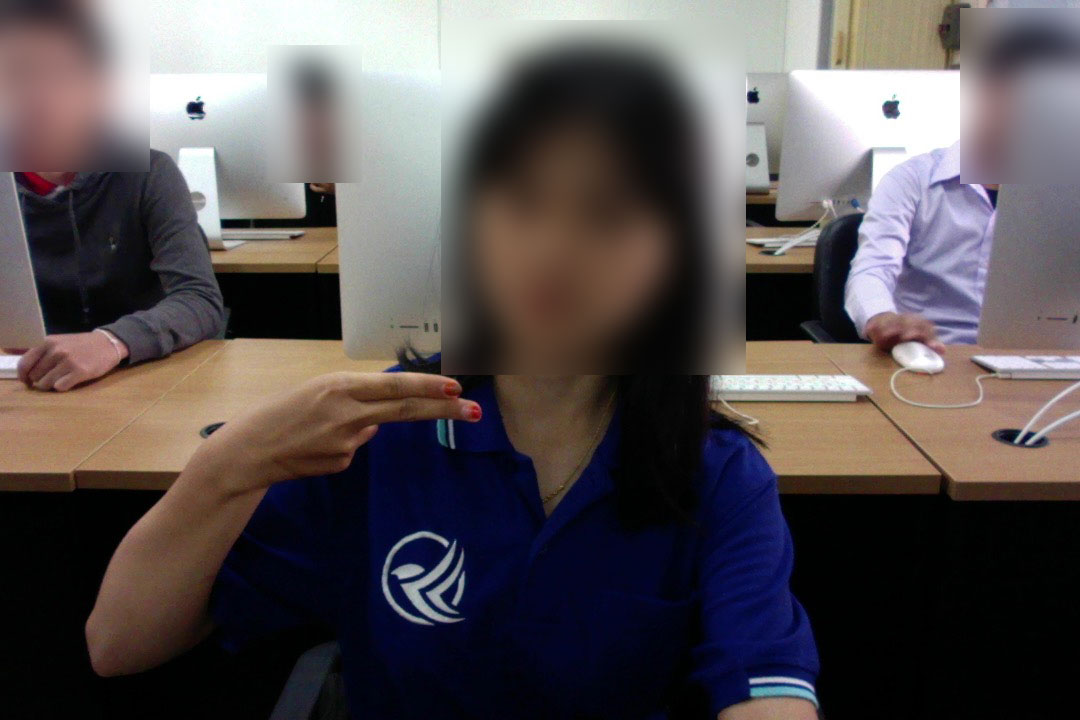hor: (226, 366, 496, 488)
